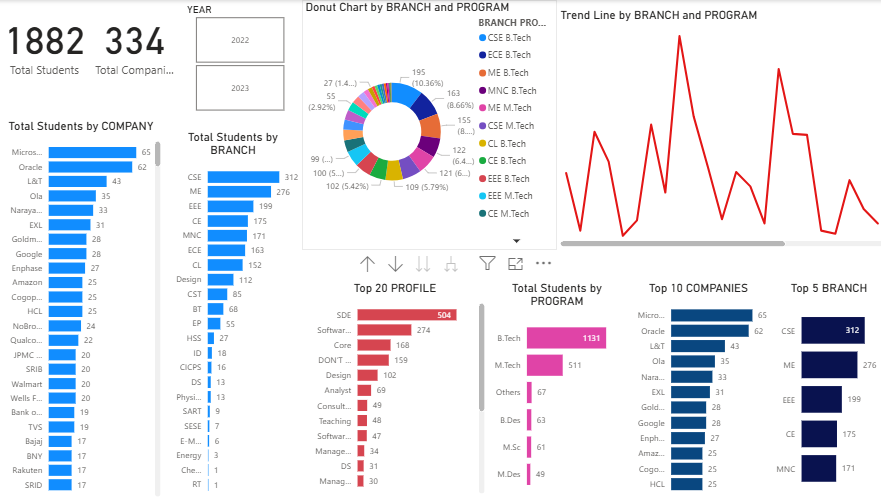

The dashboard page shown, as its layout file describes it:
{"tool":"powerbi","page":{"name":"Page 1","canvas":[1280,720],"ordinal":0},"visuals":[{"type":"card","fields":{"Values":["BaseMasure.Total Students"]},"box":[0,0,133.9,123.8],"z":0},{"type":"barChart","fields":{"Category":["Sheet1.COMPANY"],"Y":["BaseMasure.Total Students"]},"box":[0,171.4,239,548.6],"z":1000},{"type":"barChart","fields":{"Category":["Sheet1.BRANCH","Sheet1.COMPANY"],"Y":["BaseMasure.Total Students"]},"box":[239,187.2,198.7,532.8],"z":2000},{"type":"slicer","fields":{"Values":["Sheet1.YEAR"]},"box":[259.2,0,177.1,165.6],"z":3000},{"type":"barChart","title":"Top 5 BRANCH","fields":{"Category":["Sheet1.BRANCH","Sheet1.COMPANY"],"Y":["BaseMasure.Total Students"]},"box":[1113.1,404.6,167,315.4],"z":4000},{"type":"barChart","title":"Top 10 COMPANIES","fields":{"Category":["Sheet1.COMPANY"],"Y":["BaseMasure.Total Students"]},"box":[904.3,404.6,208.8,315.4],"z":5000},{"type":"barChart","fields":{"Category":["Sheet1.PROGRAM","Sheet1.COMPANY"],"Y":["BaseMasure.Total Students"]},"box":[705.6,404.6,198.7,315.4],"z":6000},{"type":"barChart","title":"Top 20 PROFILE","fields":{"Category":["Sheet1.PROFILE"],"Y":["BaseMasure.Total Students"]},"box":[437.8,404.6,267.8,311],"z":7000},{"type":"lineChart","title":"Trend Line by BRANCH and PROGRAM","fields":{"Y":["BaseMasure.Total Students"],"Category":["Sheet1.BRANCH","Sheet1.PROGRAM"]},"box":[805,11.5,475.2,348.5],"z":8000},{"type":"donutChart","title":"Donut Chart by BRANCH and PROGRAM","fields":{"Category":["Sheet1.BRANCH","Sheet1.PROGRAM"],"Y":["BaseMasure.Total Students"]},"box":[437.8,0,367.2,360],"z":9000},{"type":"card","fields":{"Values":["BaseMasure.Total Companies"]},"box":[133.9,0,125.3,123.8],"z":10000}]}

Visuals, with their boxes in screenshot pixels (x1, y1, x2, y2), scaled from the page's 1280x720 canvas onto the 881x497 screenshot:
card - BaseMasure.Total Students: 0:0:92:85
barChart - Sheet1.COMPANY x BaseMasure.Total Students: 0:118:164:496
barChart - Sheet1.BRANCH x Sheet1.COMPANY: 164:129:301:496
slicer - Sheet1.YEAR: 178:0:300:114
"Top 5 BRANCH" barChart: 766:279:880:496
"Top 10 COMPANIES" barChart: 622:279:766:496
barChart - Sheet1.PROGRAM x Sheet1.COMPANY: 486:279:622:496
"Top 20 PROFILE" barChart: 301:279:486:494
"Trend Line by BRANCH and PROGRAM" lineChart: 554:8:880:248
"Donut Chart by BRANCH and PROGRAM" donutChart: 301:0:554:248
card - BaseMasure.Total Companies: 92:0:178:85
